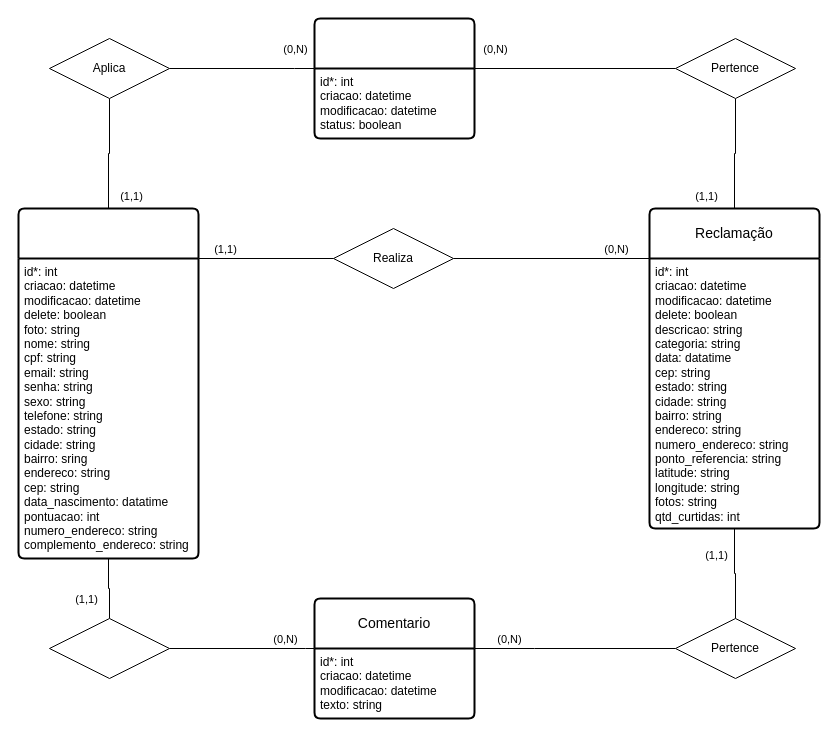
The diagram is 837 pixels wide and 736 high, and some of its shapes have lost their labels. Here are the shapes that lost their labels. From the top down, the box of each, then its label:
(313, 17, 475, 139): Curtida
(17, 207, 199, 559): Usuario
(48, 618, 170, 678): Faz
